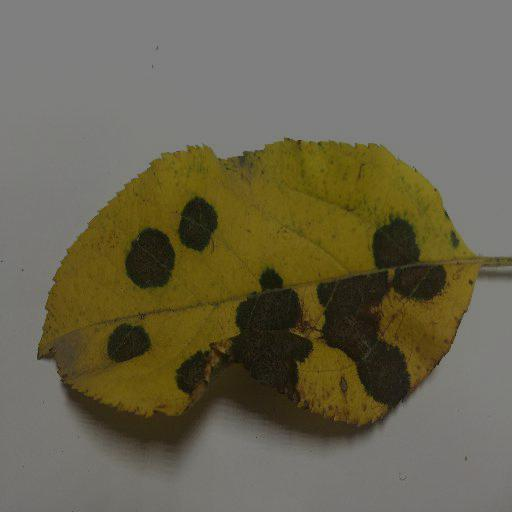Brown_Spot: (319, 282, 412, 405), (215, 289, 313, 399), (370, 214, 420, 265), (177, 193, 219, 251), (123, 237, 170, 287), (394, 268, 450, 300), (112, 326, 156, 356), (171, 355, 208, 389)
